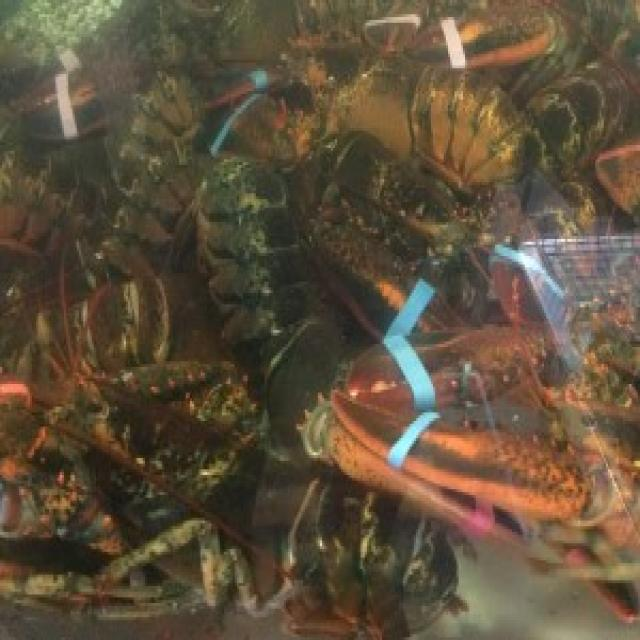lobsters: (81, 106, 612, 606)
